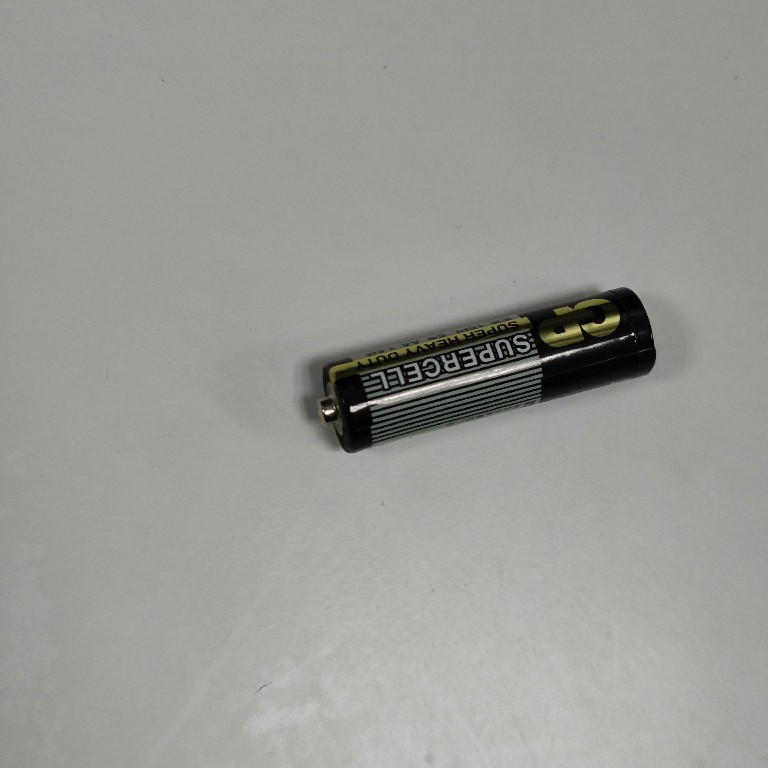charge: (316, 286, 659, 456)
